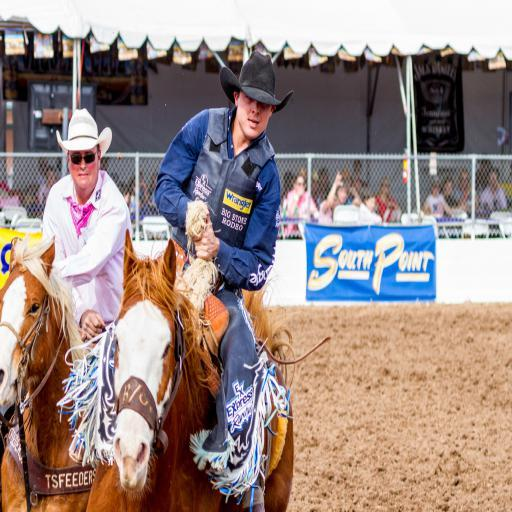Horse: (86, 226, 294, 512), (0, 212, 97, 511)
